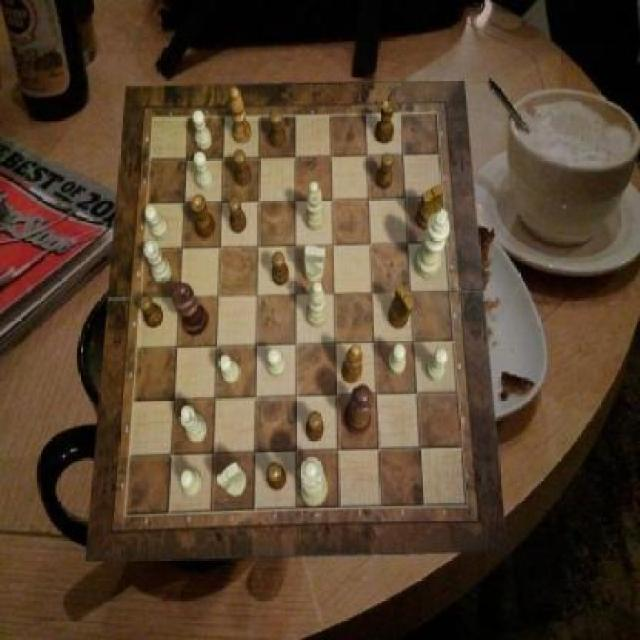bishop: (229, 86, 252, 144), (342, 344, 362, 384)
black-bishop: (172, 282, 210, 336)
black-king: (417, 184, 445, 230), (388, 284, 414, 328)
black-knight: (138, 296, 162, 330), (232, 149, 252, 187), (228, 197, 247, 233), (375, 152, 393, 190), (269, 111, 286, 149), (272, 251, 290, 285), (268, 463, 288, 491), (306, 411, 324, 442)
black-pawn: (344, 385, 374, 437)
black-queen: (192, 194, 217, 239), (376, 97, 396, 143)
black-rook: (306, 281, 327, 327), (306, 182, 326, 230)
white-bishop: (415, 208, 451, 278)
white-king: (217, 462, 247, 496), (305, 245, 327, 282)
white-knight: (144, 205, 168, 239), (192, 111, 212, 151), (426, 348, 449, 382), (194, 151, 214, 189), (218, 356, 240, 384), (180, 471, 202, 498), (266, 349, 286, 377), (388, 343, 405, 375)
white-pawn: (300, 457, 329, 506)
white-queen: (145, 240, 172, 284), (180, 405, 208, 442)
